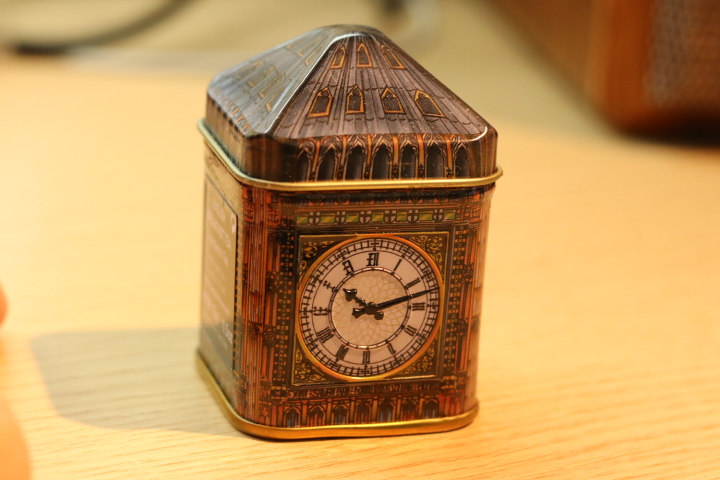Big Ben: (188, 15, 509, 451)
